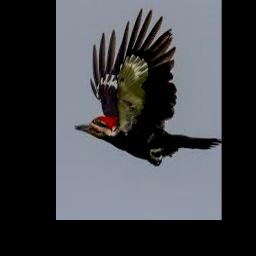Woodpecker: (73, 8, 221, 166)
